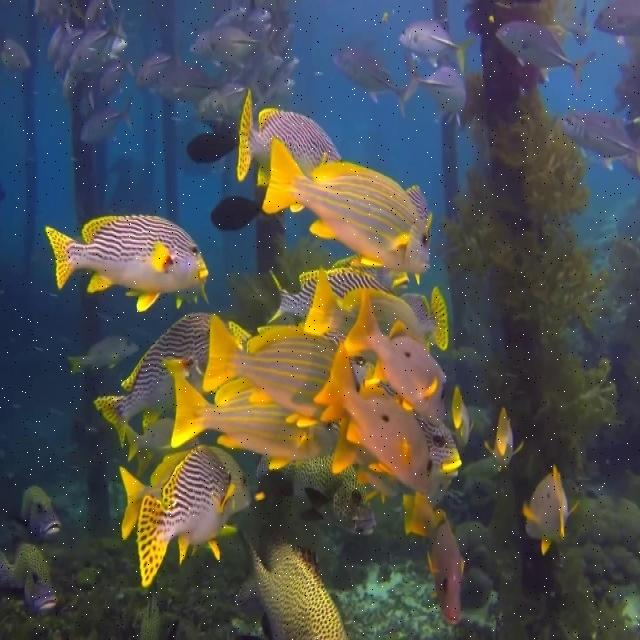fish: (262, 141, 435, 286), (316, 347, 435, 498), (45, 213, 210, 313), (170, 371, 339, 467), (91, 312, 208, 447), (202, 311, 337, 420), (138, 444, 239, 587), (246, 508, 349, 639), (344, 285, 446, 412), (236, 89, 343, 190), (257, 455, 374, 538), (400, 494, 466, 630), (493, 18, 597, 88), (331, 44, 419, 116), (523, 463, 581, 559), (556, 109, 639, 171), (397, 19, 475, 76), (408, 58, 467, 128), (2, 540, 58, 611), (63, 332, 141, 376), (189, 24, 262, 63), (486, 406, 528, 473), (80, 92, 134, 144), (71, 27, 126, 74), (17, 484, 62, 540), (422, 415, 462, 475), (194, 80, 246, 121), (451, 386, 473, 449)
